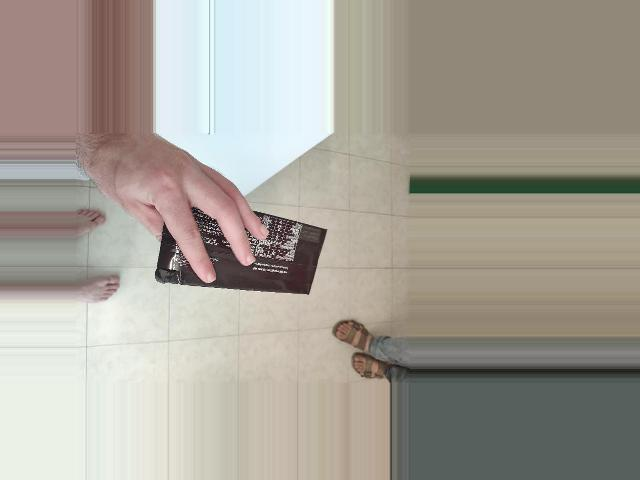chocolate: (214, 209, 325, 387)
